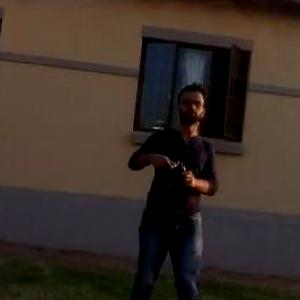follow: (120, 68, 232, 299)
